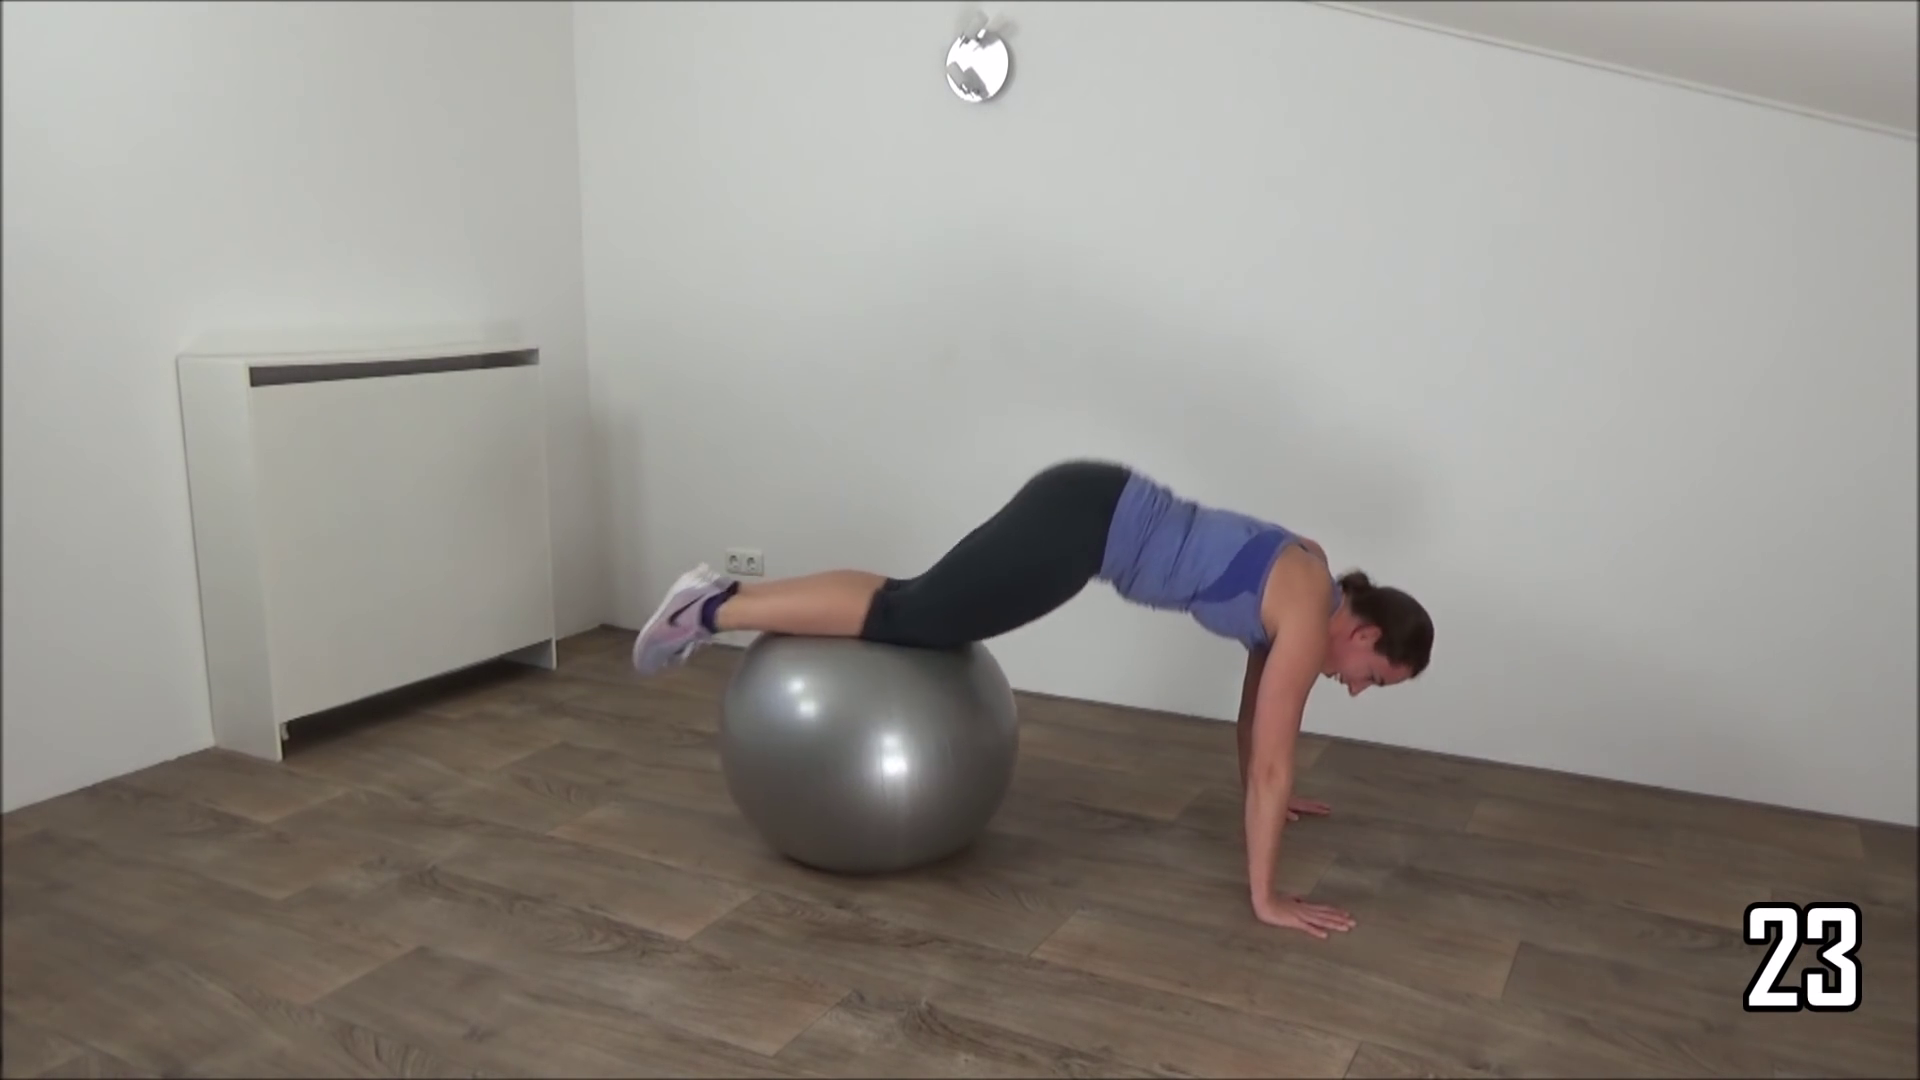yogaball: (703, 605, 1048, 884)
